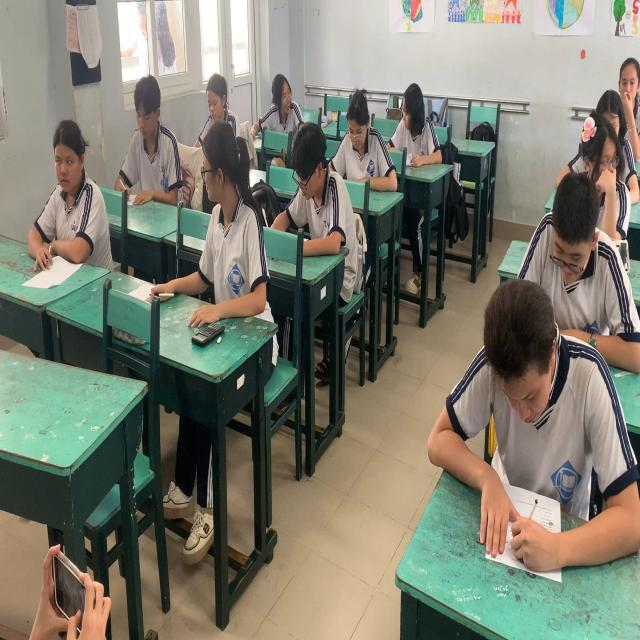cheating: (193, 120, 280, 342), (570, 103, 640, 244), (267, 68, 296, 141)
not_cheating: (405, 282, 622, 580), (535, 192, 634, 340), (27, 116, 109, 292), (272, 127, 337, 245), (119, 82, 177, 206), (339, 89, 391, 209), (381, 78, 440, 165), (599, 48, 640, 130), (195, 65, 232, 120)
